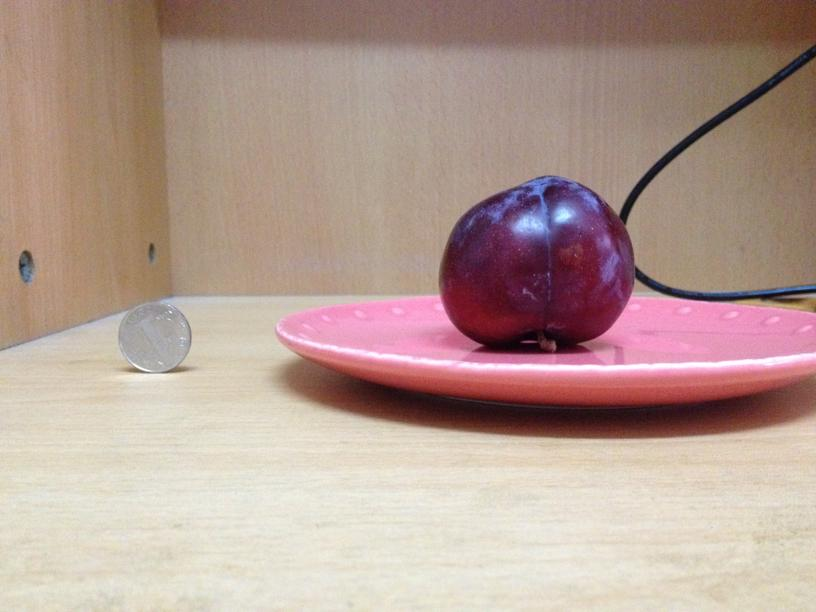coin: (115, 303, 192, 372)
plum: (437, 171, 633, 348)
